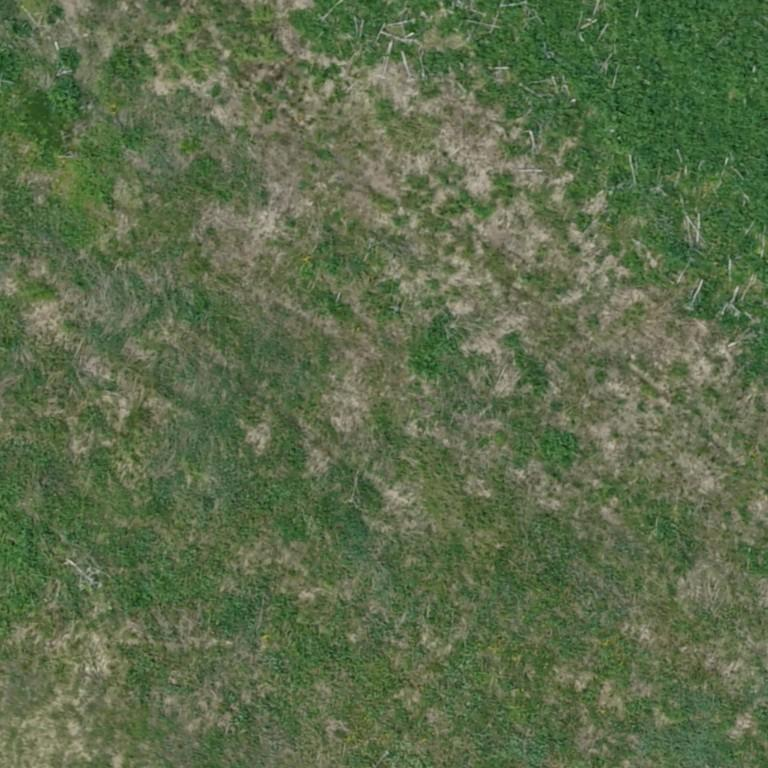hogweed: (291, 0, 767, 383), (412, 321, 454, 375), (49, 48, 80, 116), (544, 429, 574, 462)
